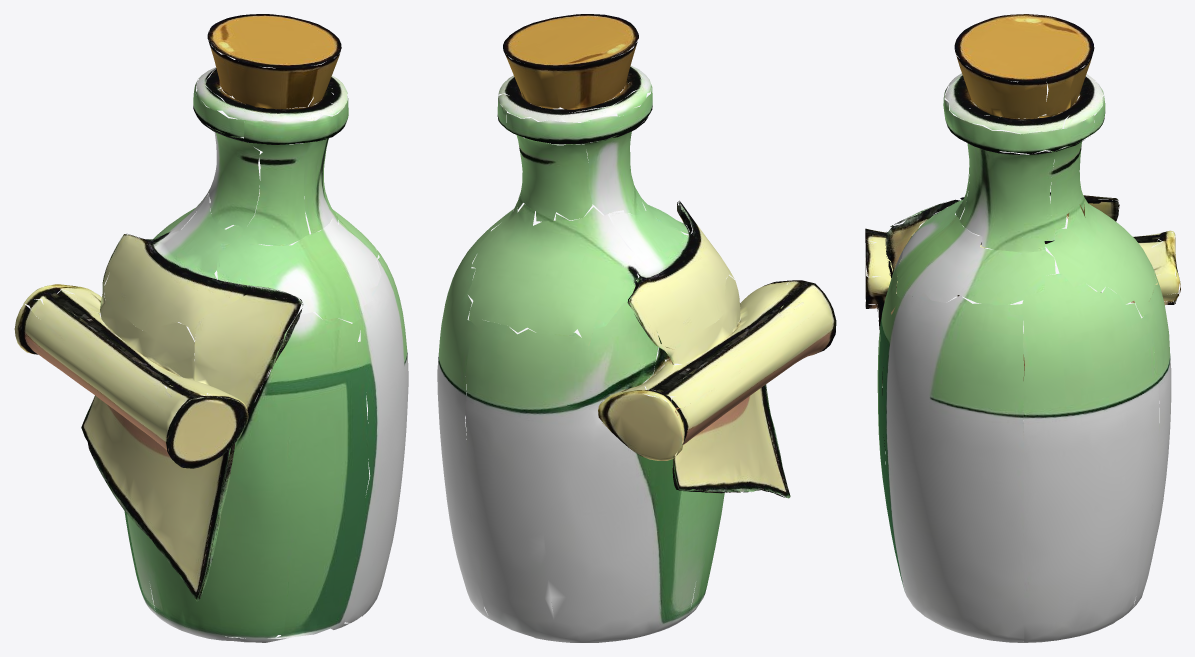
File: mesaj_sisesi.glb
3 renders of one model, left to right at view 1: azimuth 30°, elevation 25°; view 2: azimuth 150°, elevation 25°; view 3: azimuth 270°, elevation 25°, orthographic.
Parts seen in each view (by area): view 1: geometry_0; view 2: geometry_0; view 3: geometry_0.
Part boxes in pixels (bbox=[...]): geometry_0: bbox=[14, 14, 408, 642]; geometry_0: bbox=[437, 14, 836, 642]; geometry_0: bbox=[865, 14, 1180, 642].
Size of the model in its own units: 0.5582 by 0.9861 by 0.5047.
Materials: 1 (1 with a texture image).
